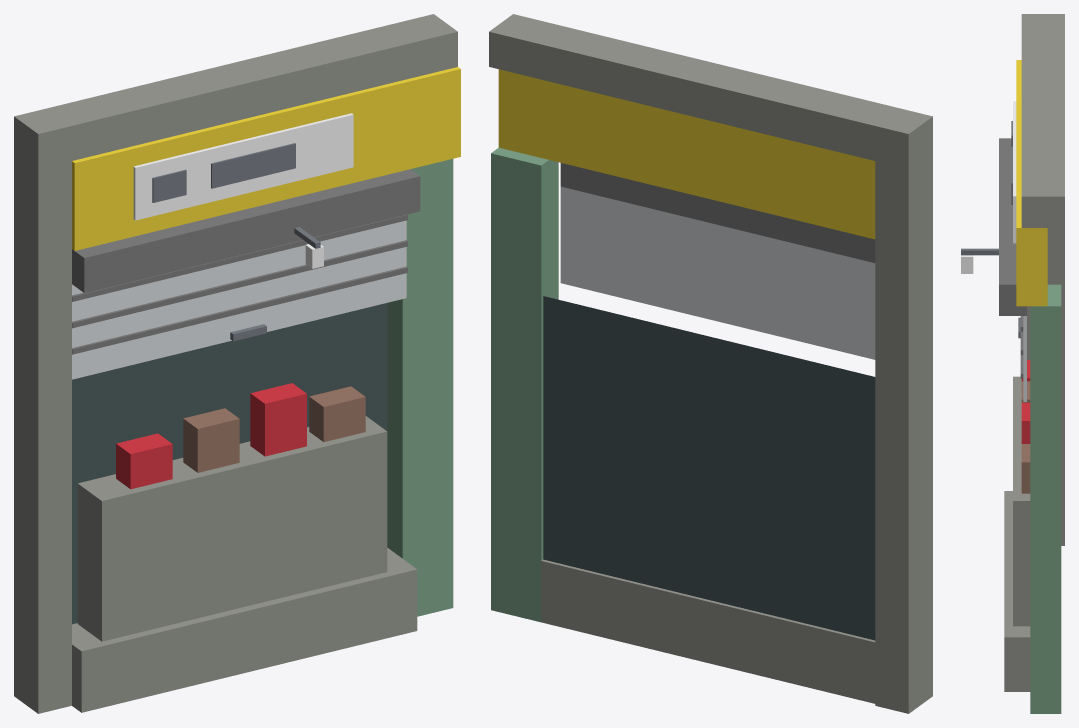
File: base-w1_close.fbx
3 views of the same model, side by side, from view 1: azimuth 30°, elevation 25°; view 2: azimuth 150°, elevation 25°; view 3: azimuth 270°, elevation 25° (orthographic). The views are drawn at different scales.
Parts seen in each view (by area): view 1: a2019/0/base-w1_close; view 2: a2019/0/base-w1_close; view 3: a2019/0/base-w1_close.
Part boxes in pixels (x1,y1,x2,y2): a2019/0/base-w1_close: (14, 14, 460, 713); a2019/0/base-w1_close: (489, 14, 932, 713); a2019/0/base-w1_close: (961, 14, 1064, 713).
Size of the model in its own units: 2.5 by 3.3 by 0.6.
